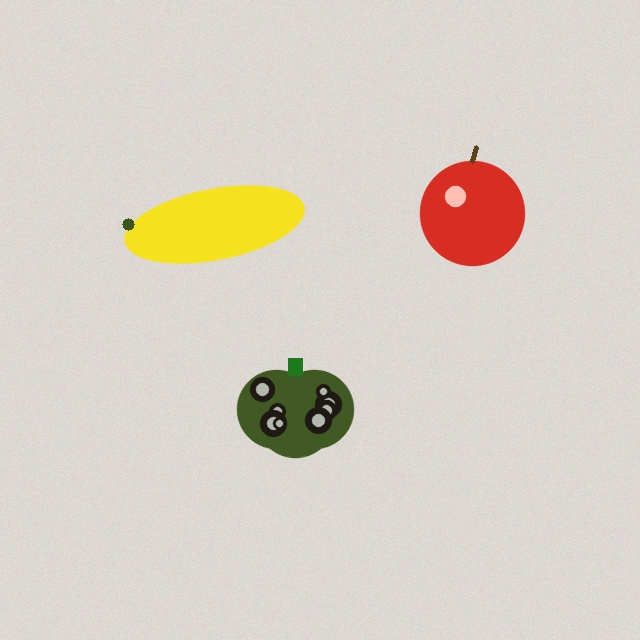Fresh apple: (420, 147, 524, 265)
Fresh banana: (119, 181, 309, 267)
Rotten bell pepper: (237, 358, 353, 457)
